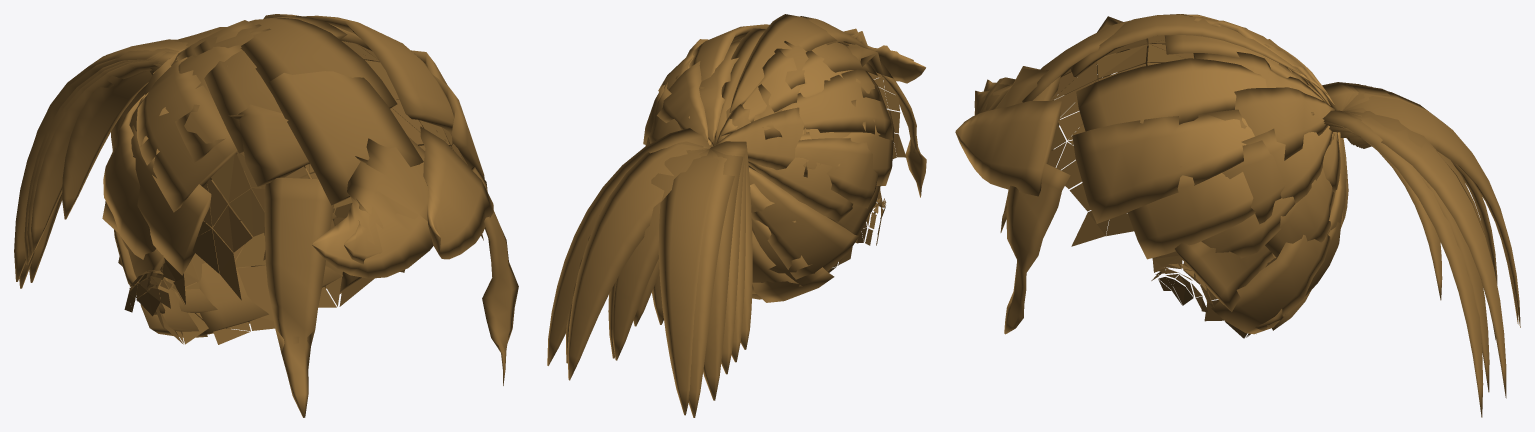
Rendered from kopf.haar.zopf_wild.glb.
3 views of the same model, side by side, from view 1: azimuth 30°, elevation 25°; view 2: azimuth 150°, elevation 25°; view 3: azimuth 270°, elevation 25° (orthographic). The views are drawn at different scales.
Visible parts, largest first — view 1: haar; view 2: haar; view 3: haar.
Boxes of the visible parts, x1=… form: haar: x1=14, y1=14, x2=518, y2=417; haar: x1=547, y1=14, x2=926, y2=417; haar: x1=955, y1=14, x2=1520, y2=417.
Bounding box in the file's own units: 0.2064 × 0.2423 × 0.374.
